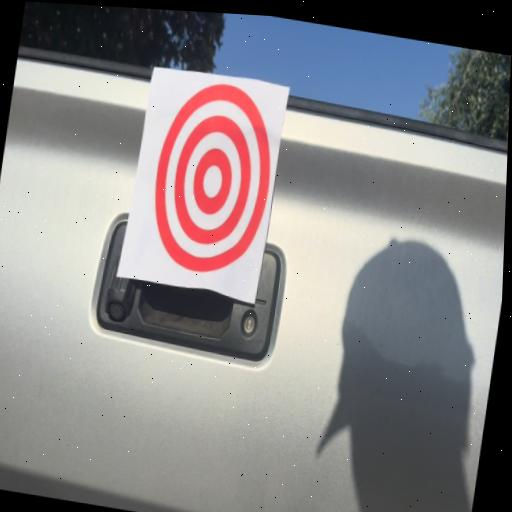bullseye: (135, 69, 289, 302)
